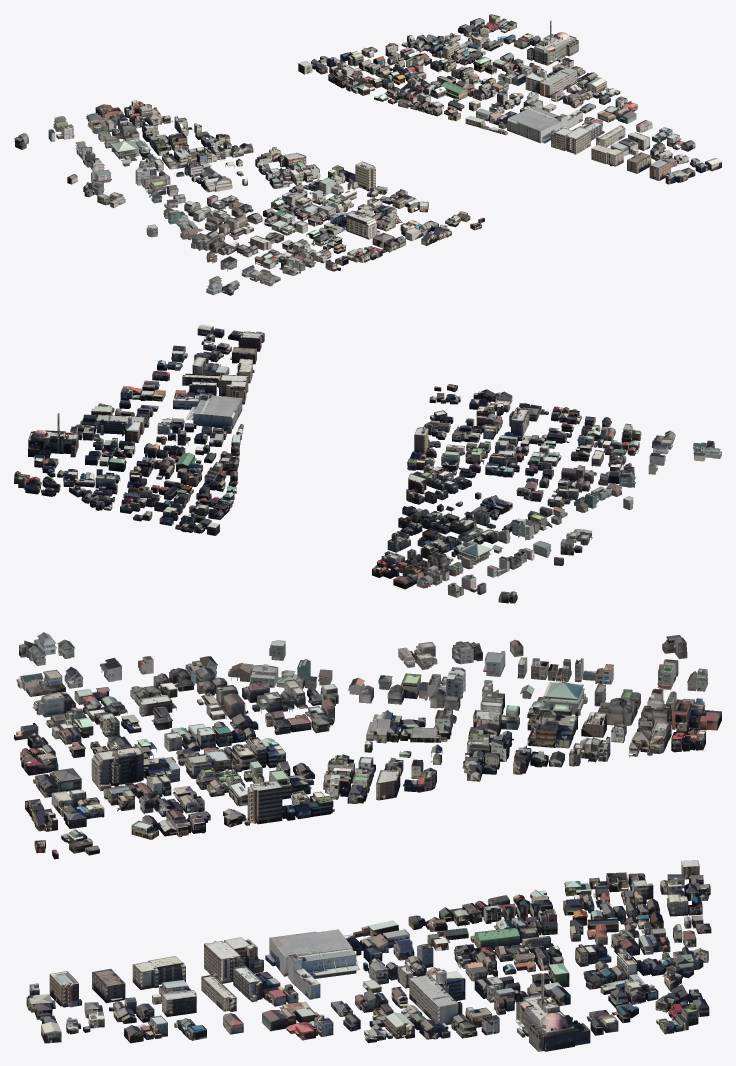
Rendered from 2023-lod3-station-3-1-packed.glb.
The picture shows the model from 3 angles, top to bottom: view 1: azimuth 30°, elevation 25°; view 2: azimuth 150°, elevation 25°; view 3: azimuth 270°, elevation 25°; orthographic projection. The views are drawn at different scales.
Bounding box in the file's own units: 632 × 42.19 × 461.
19 materials, 16 textured.
